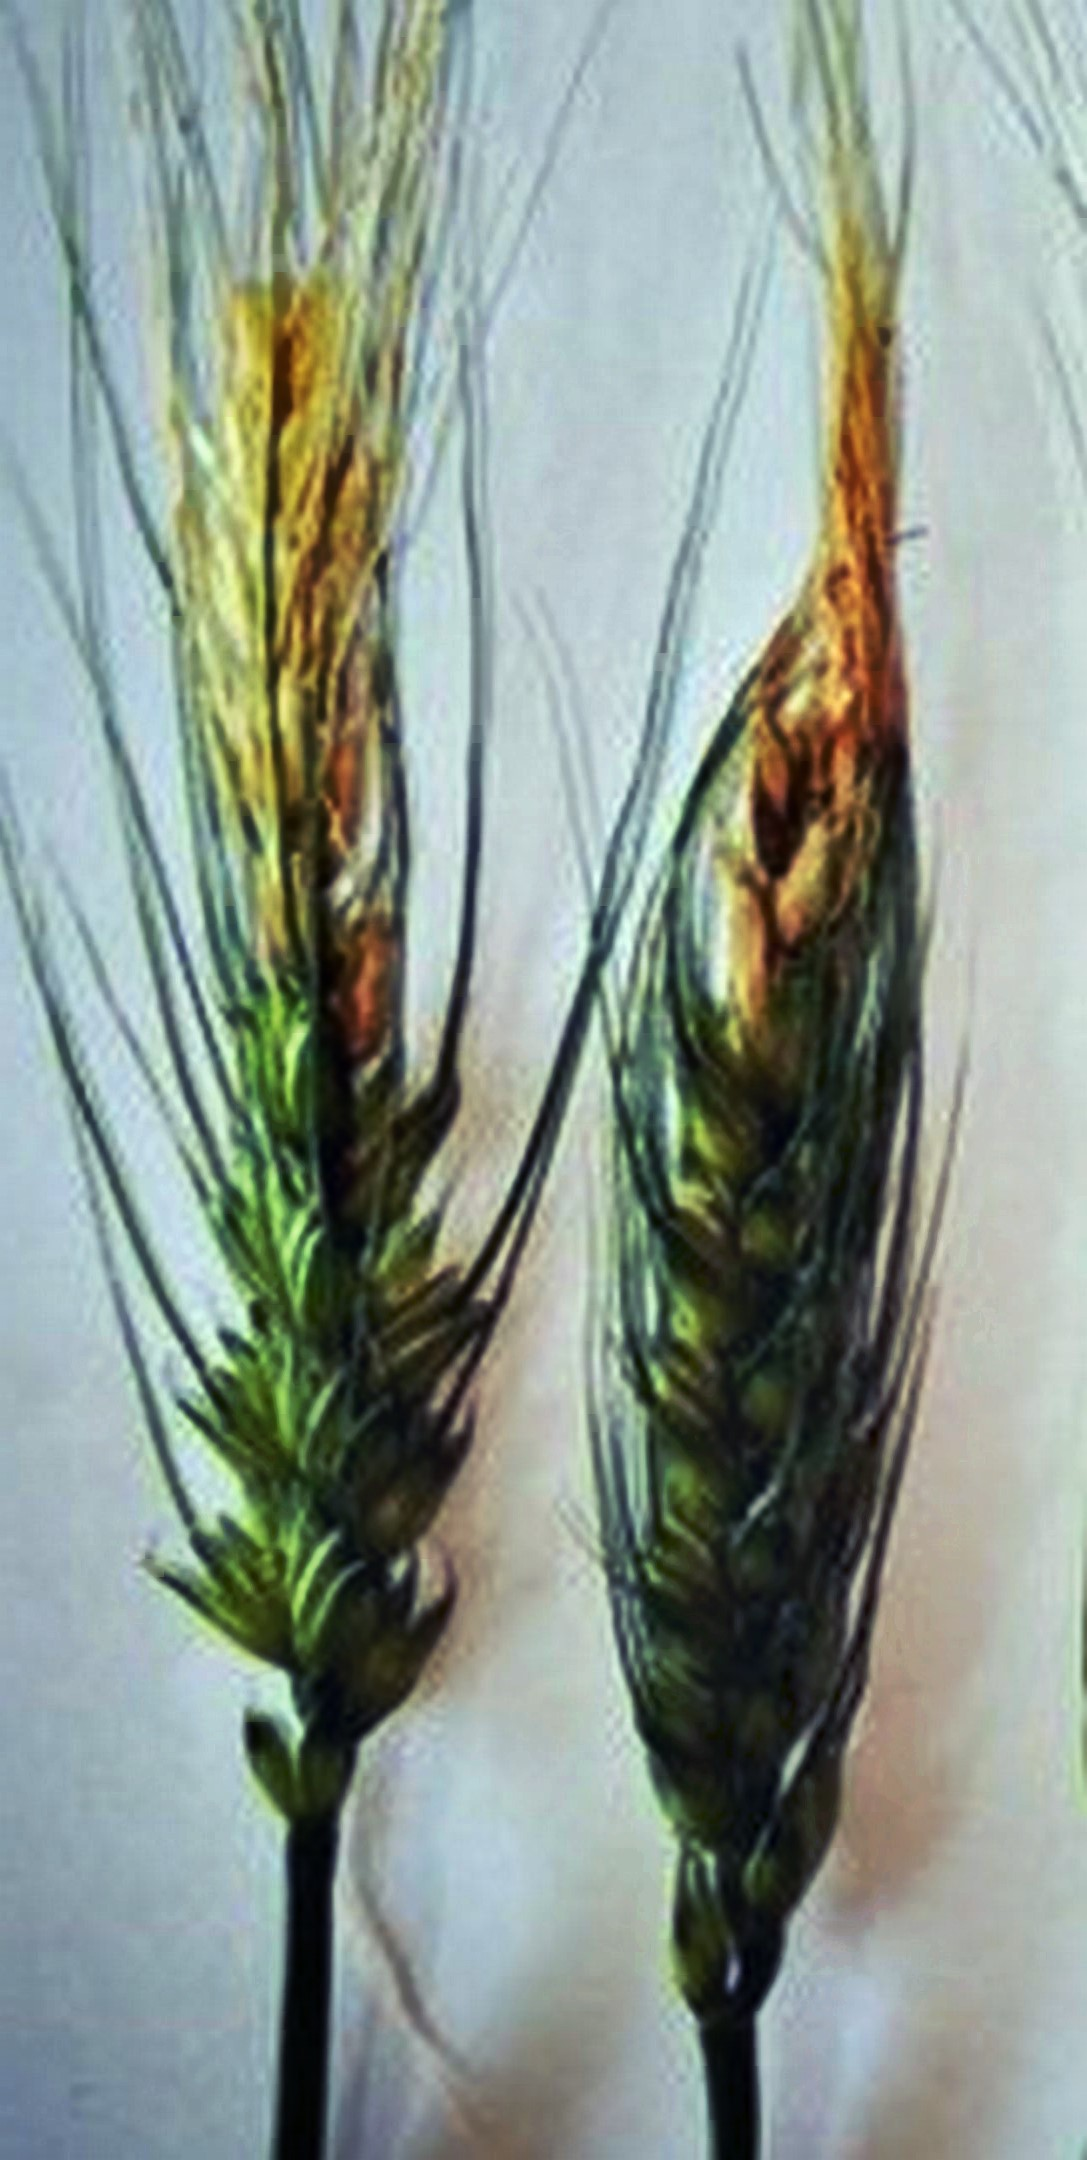Wheat scab: (537, 245, 1038, 1980), (8, 164, 509, 1747)
